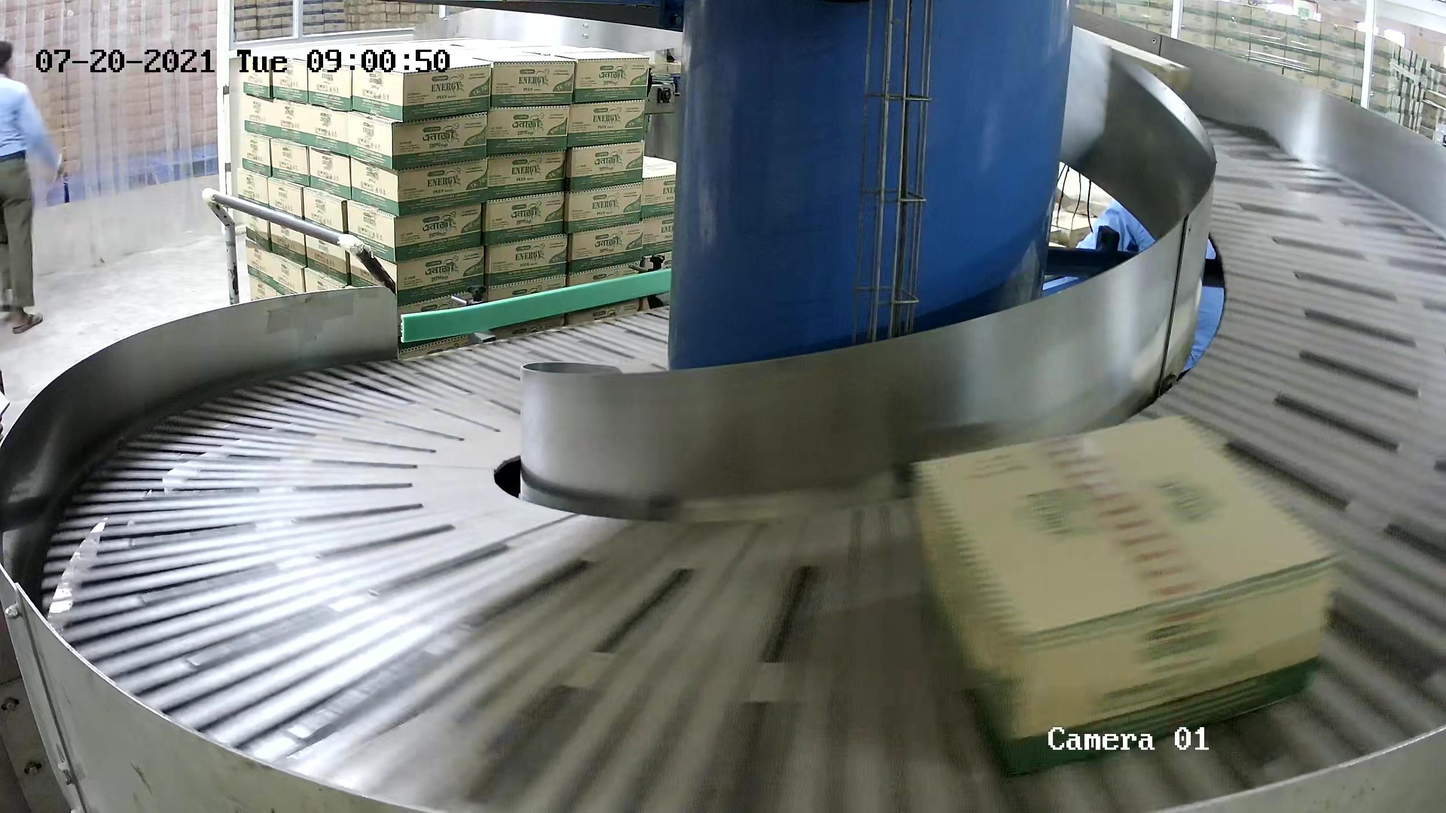Box: (907, 407, 1345, 781)
